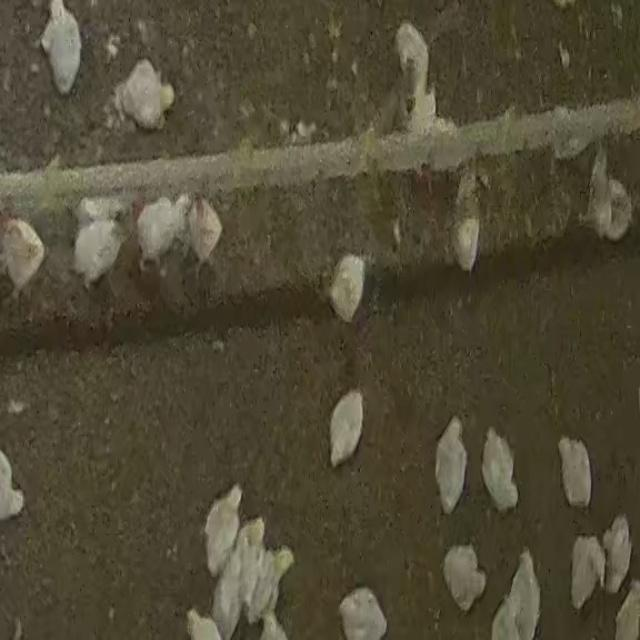chicken: (581, 150, 633, 246), (195, 482, 249, 573), (439, 179, 487, 276), (490, 550, 541, 638), (112, 59, 174, 131), (72, 213, 125, 289), (40, 1, 82, 96), (250, 539, 298, 619), (406, 88, 445, 180), (1, 214, 45, 295), (434, 418, 468, 514), (232, 515, 273, 594), (481, 428, 518, 514), (131, 198, 178, 265), (442, 545, 486, 613), (328, 390, 366, 466), (569, 532, 605, 610), (338, 586, 388, 640), (557, 438, 594, 509), (330, 249, 364, 323), (188, 196, 223, 265), (601, 515, 631, 594), (399, 21, 430, 89), (0, 442, 25, 522), (216, 556, 241, 634), (184, 609, 224, 640), (260, 611, 290, 640)
